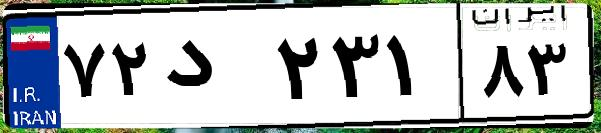1: (385, 28, 445, 110)
2: (270, 28, 330, 110), (110, 28, 158, 98)
3: (330, 28, 385, 110), (525, 38, 570, 115)
7: (57, 26, 110, 100)
8: (475, 38, 525, 113)
د: (158, 20, 270, 120)
